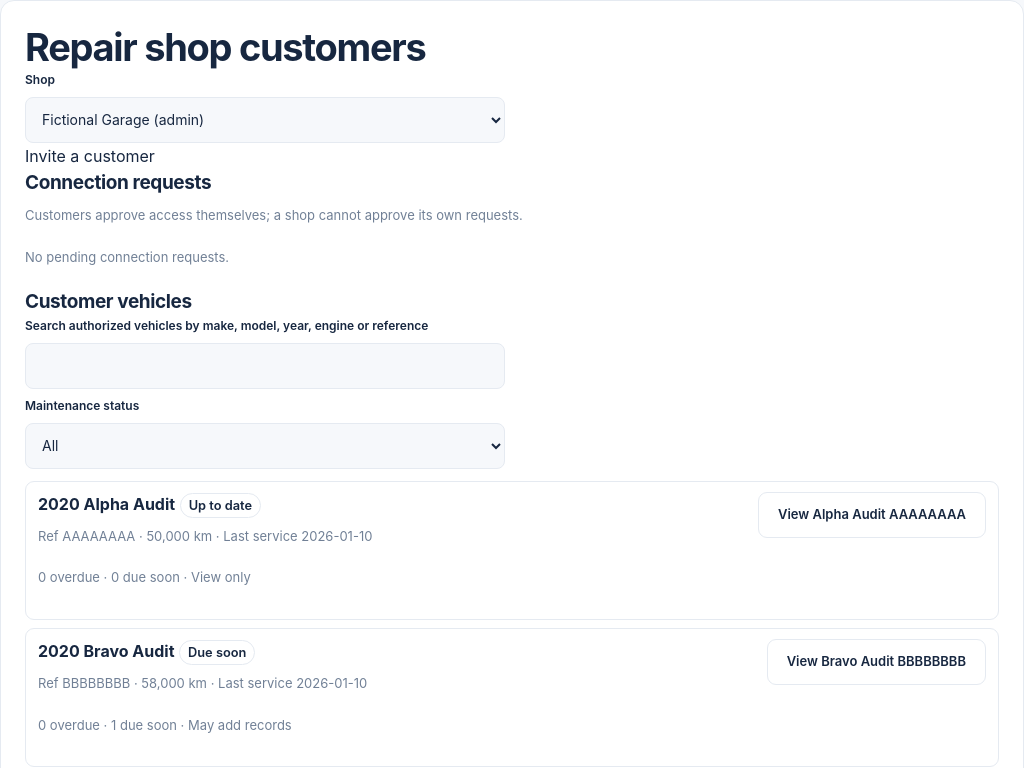
Test: searches and filters only the authorized vehicles
Expected: the text "2020 Alpha Audit" is shown, x1=38 y1=494 x2=175 y2=514
Type "bravo" into the search field labelled "Search authorized" at (265, 366), box x1=25 y1=343 x2=505 y2=389
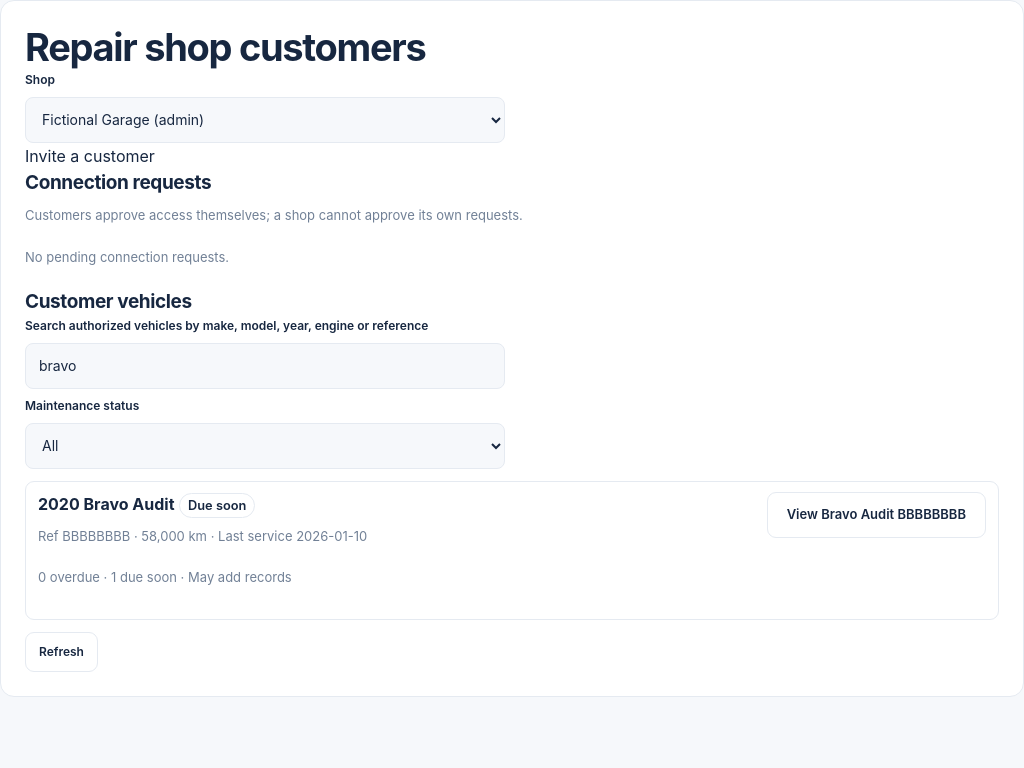
Expected: the text "2020 Bravo Audit" is shown, x1=38 y1=494 x2=174 y2=514
Expected: the text "2020 Alpha Audit" is gone
Replace the text in the search field labelled "Search authorized" with "cccccccc" at (265, 366), box x1=25 y1=343 x2=505 y2=389
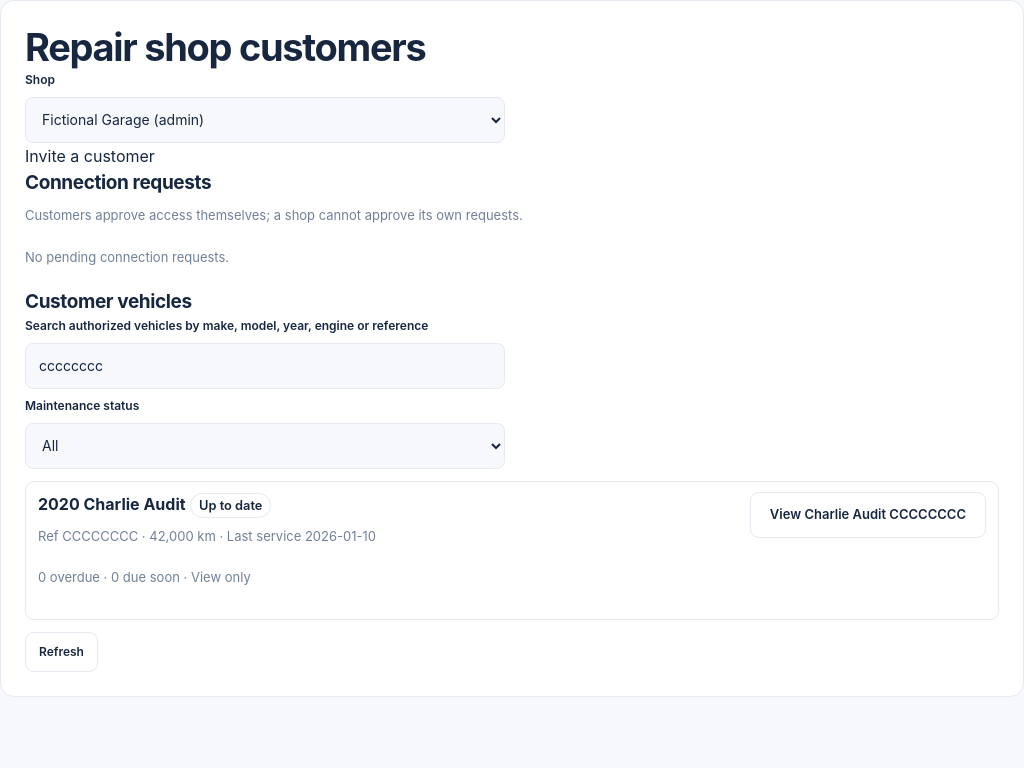
Expected: the text "2020 Charlie Audit" is shown, x1=38 y1=494 x2=186 y2=514
Clear the search field labelled "Search authorized" at (265, 366), box x1=25 y1=343 x2=505 y2=389
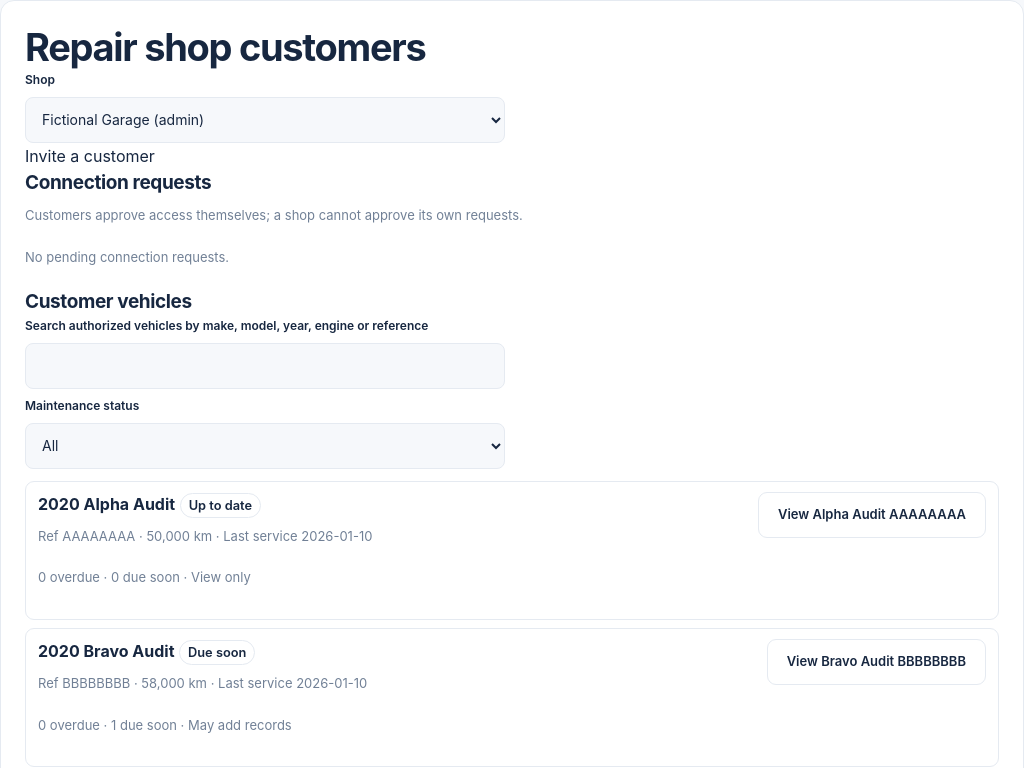
Select "Due soon" in the dropdown labelled "Maintenance status" at (265, 446), box x1=25 y1=423 x2=505 y2=469
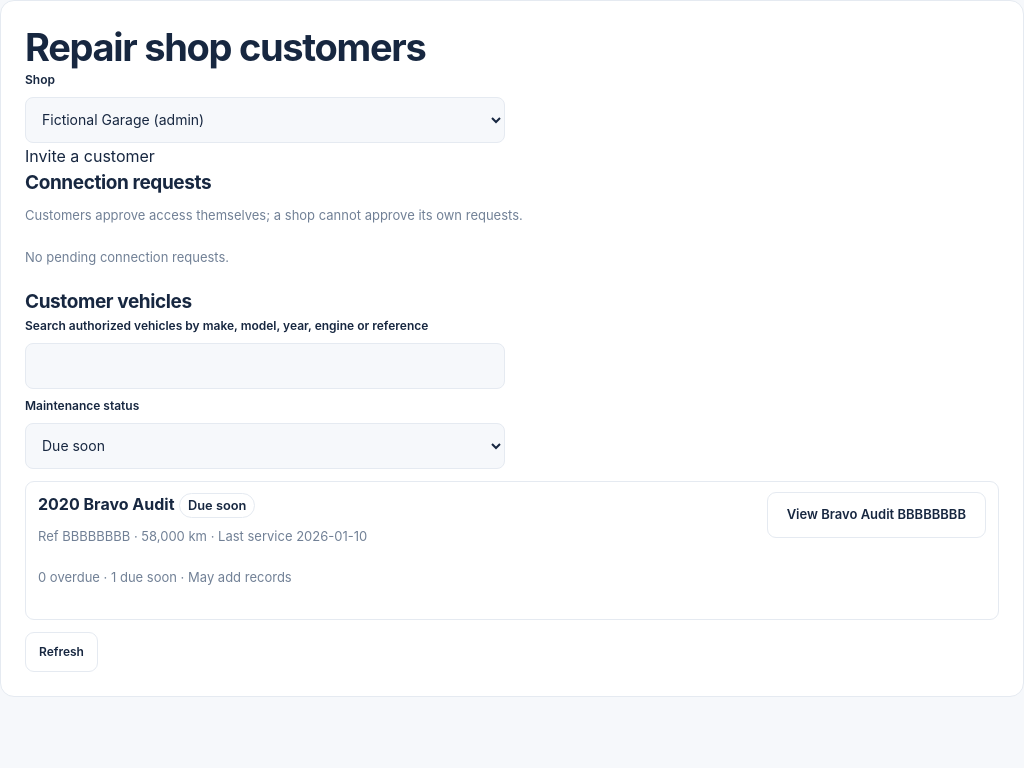
Expected: the text "2020 Alpha Audit" is gone
Select "Due / overdue" in the dropdown labelled "Maintenance status" at (265, 446), box x1=25 y1=423 x2=505 y2=469
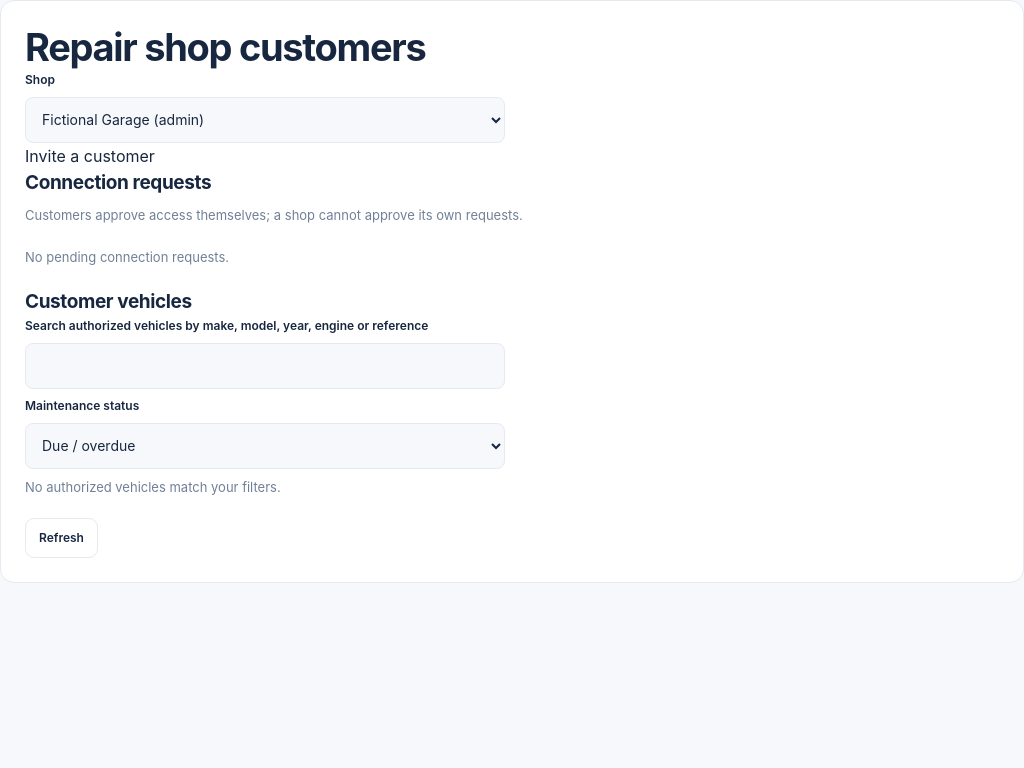
Expected: the text "No authorized vehicles match your filters." is shown, x1=25 y1=479 x2=281 y2=495
